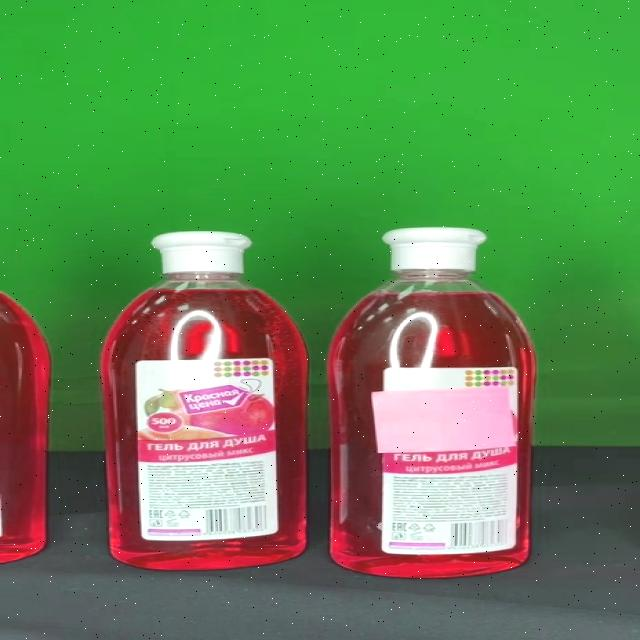Bottle: (327, 227, 536, 578), (98, 231, 307, 570)
Cap: (383, 228, 487, 272), (149, 232, 253, 274)
